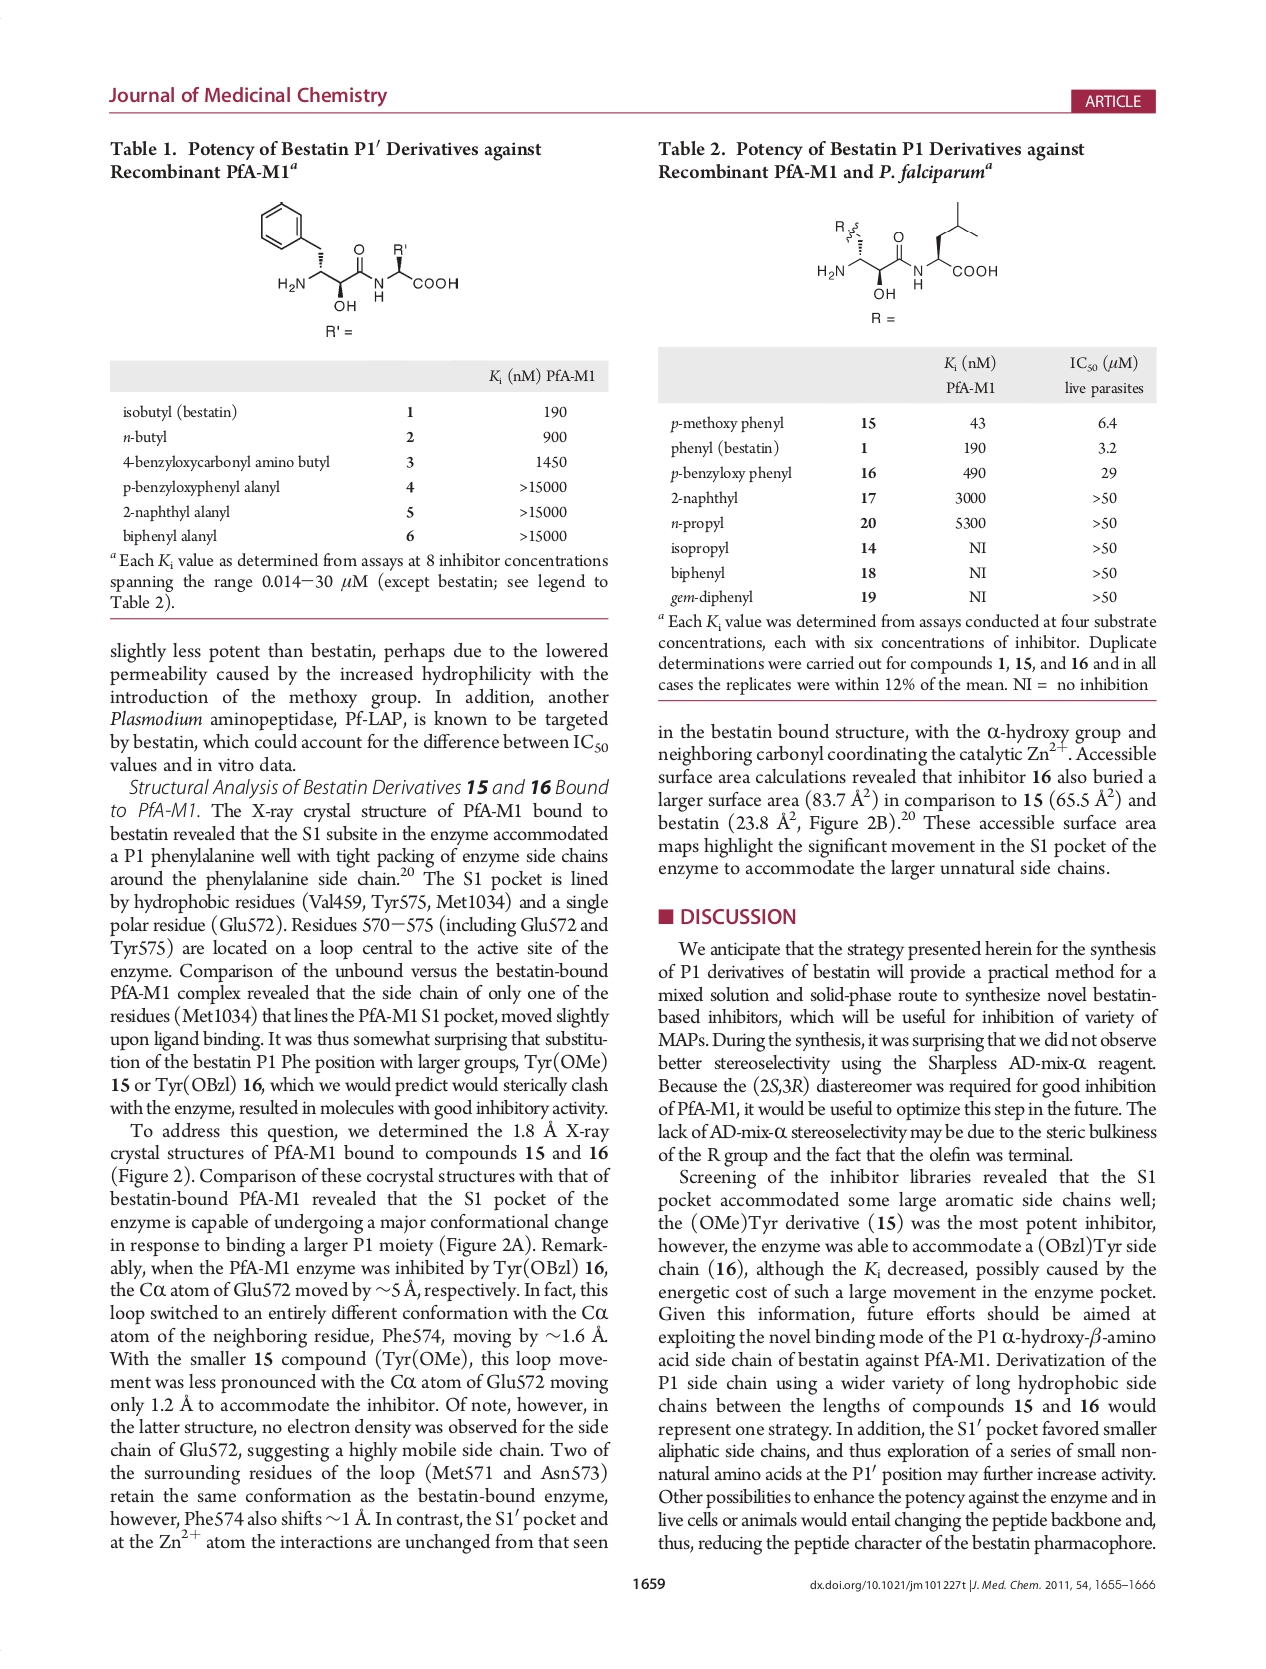exist_molecular: (253, 193, 460, 313), (810, 198, 999, 302)
